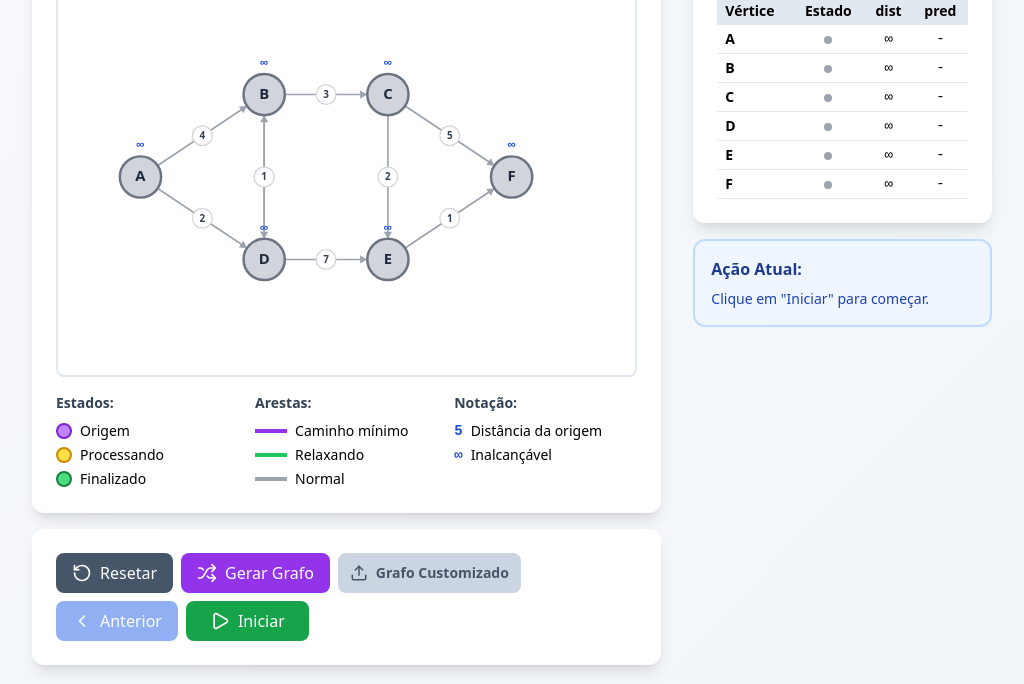
Test: DijkstraSimulator Integration › should show priority queue panel
(page scrolled)
What coordinates should you click on to do the following:
click the button with test id "start-button"
I would click on:
 (247, 621)
Its box is top-left (186, 601), bottom-right (309, 641).
(page scrolled)
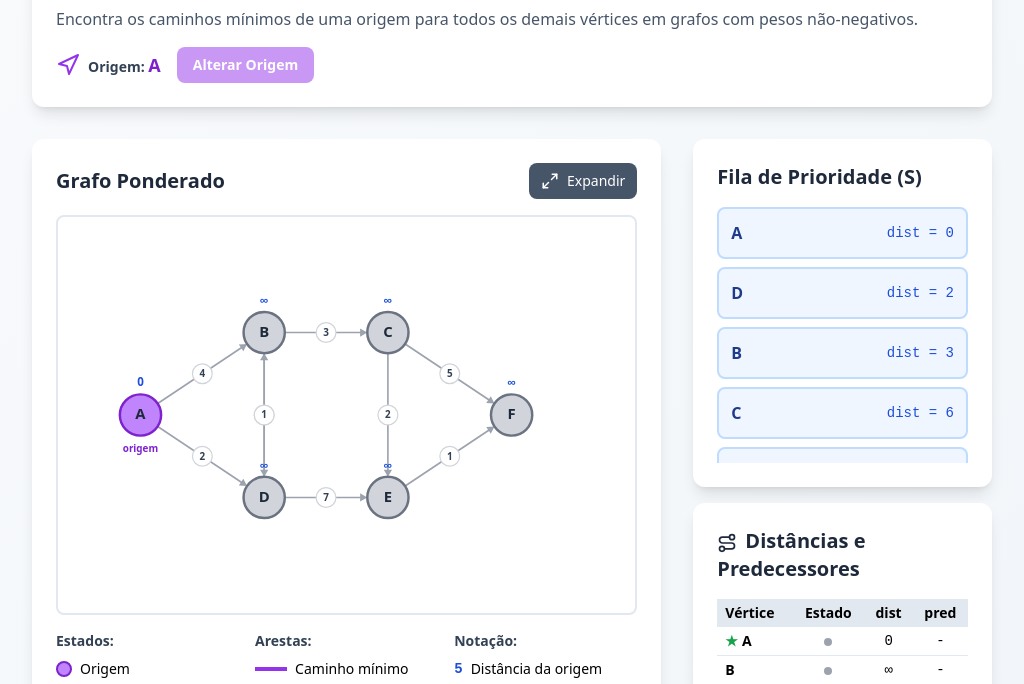
Check: the element with test id "priority-queue-panel" is shown, box top-left (693, 139), bottom-right (992, 487)
